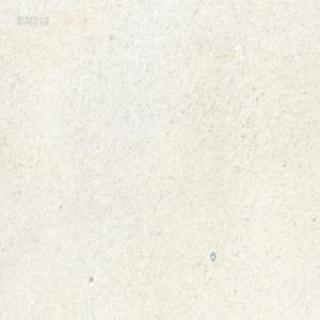Washertrack_idkeyframe: (209, 250, 214, 261)
